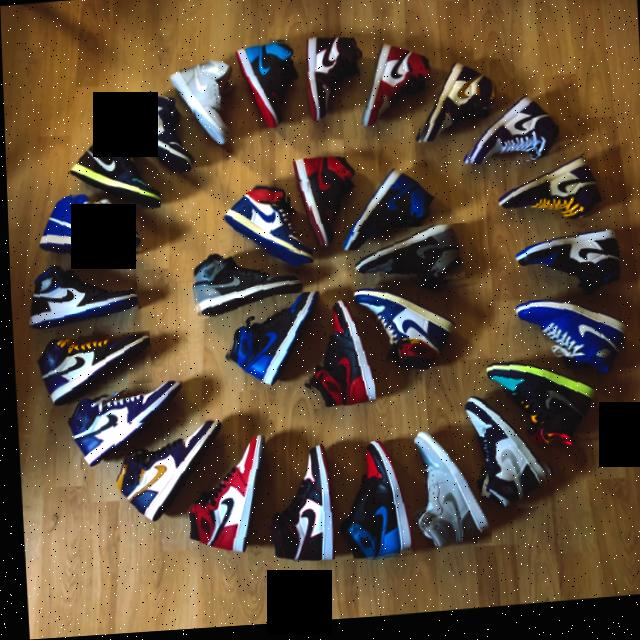shoe: (109, 417, 223, 526), (479, 362, 597, 460), (459, 396, 551, 518), (347, 285, 456, 385), (508, 300, 625, 393), (401, 429, 487, 555), (62, 382, 183, 471), (180, 437, 267, 560), (219, 295, 321, 396), (330, 444, 408, 567), (32, 332, 150, 410), (349, 228, 467, 305), (337, 169, 435, 258), (260, 447, 331, 569), (217, 181, 310, 273), (188, 249, 301, 323), (298, 302, 372, 413), (22, 260, 136, 332), (495, 158, 606, 231), (34, 190, 140, 266), (508, 237, 619, 309), (63, 132, 158, 216), (410, 65, 497, 151), (459, 99, 559, 172), (115, 92, 195, 179), (356, 42, 432, 133), (288, 157, 357, 255), (233, 40, 300, 134), (169, 56, 233, 152), (302, 38, 364, 129)
